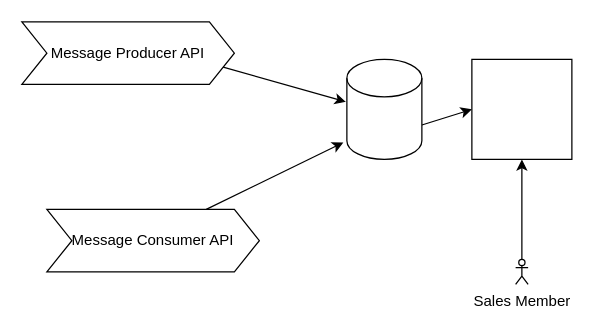
This 594x333 diagram has some shape labels left out. Each missing label, with the centre of its shape:
"CREOS" belongs at (x=521, y=108).
"Transaction DB" belongs at (x=384, y=108).
